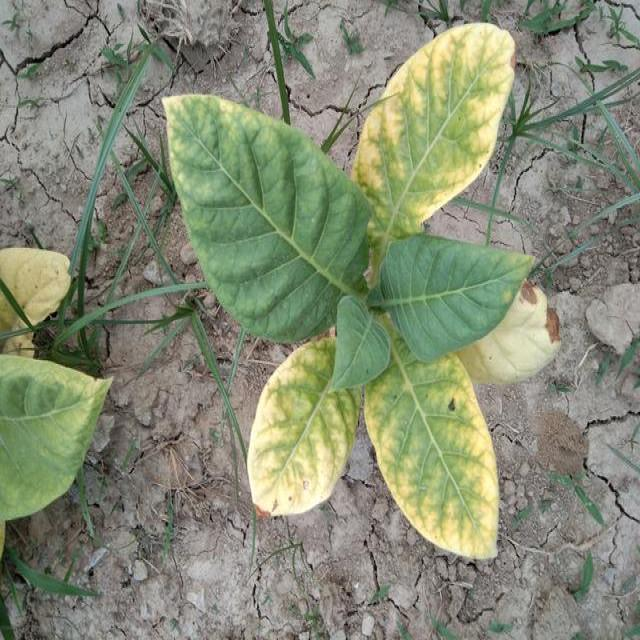crop: (165, 28, 532, 573), (0, 243, 114, 533)
